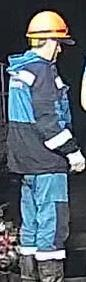gloves: (65, 148, 85, 173)
helmet: (25, 10, 70, 46)
vest: (5, 56, 71, 173)
